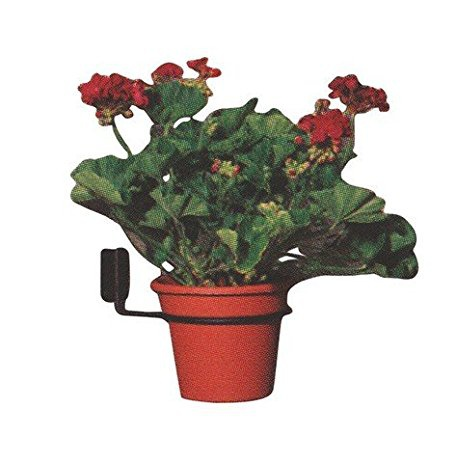flowerpot: (153, 274, 293, 401)
